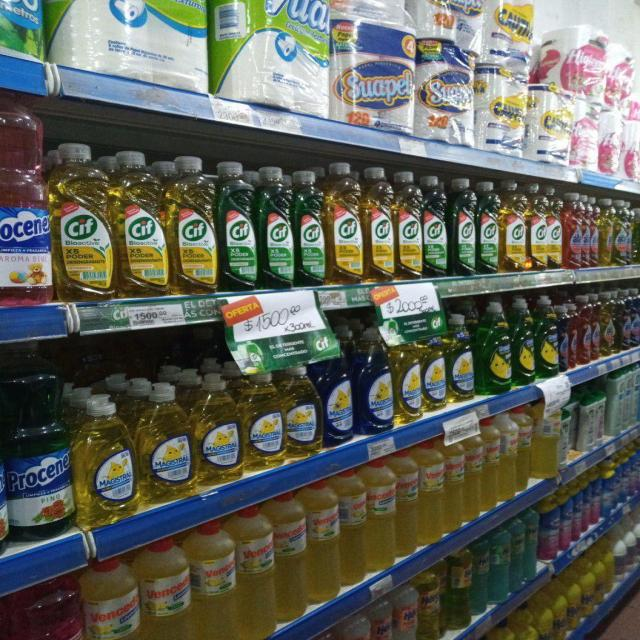ala_conc_amarillo: (600, 291, 618, 356), (614, 200, 630, 266), (601, 197, 613, 267), (631, 202, 640, 265)
ala_conc_azul: (620, 288, 632, 350), (632, 288, 640, 351)
ala_conc_rojo: (564, 192, 584, 270), (584, 194, 596, 269), (579, 295, 591, 366)
cif_conc_bot_amarilla: (52, 141, 112, 301), (114, 148, 166, 300), (168, 155, 216, 295), (327, 162, 362, 286), (364, 166, 395, 282), (397, 170, 422, 280), (502, 180, 528, 274), (529, 185, 553, 272), (547, 187, 563, 271)
cif_conc_botella_verde: (217, 159, 257, 292), (258, 166, 293, 290), (295, 168, 325, 287), (450, 177, 476, 277), (424, 174, 448, 278), (477, 180, 500, 275)
magistral_con_amarillo: (77, 394, 135, 523), (138, 381, 193, 502), (194, 373, 240, 484), (243, 370, 283, 471), (284, 364, 321, 456), (447, 313, 474, 403), (395, 334, 421, 422), (422, 329, 447, 412)
magistral_con_azul: (356, 326, 394, 435), (323, 342, 354, 444), (558, 299, 570, 373)
